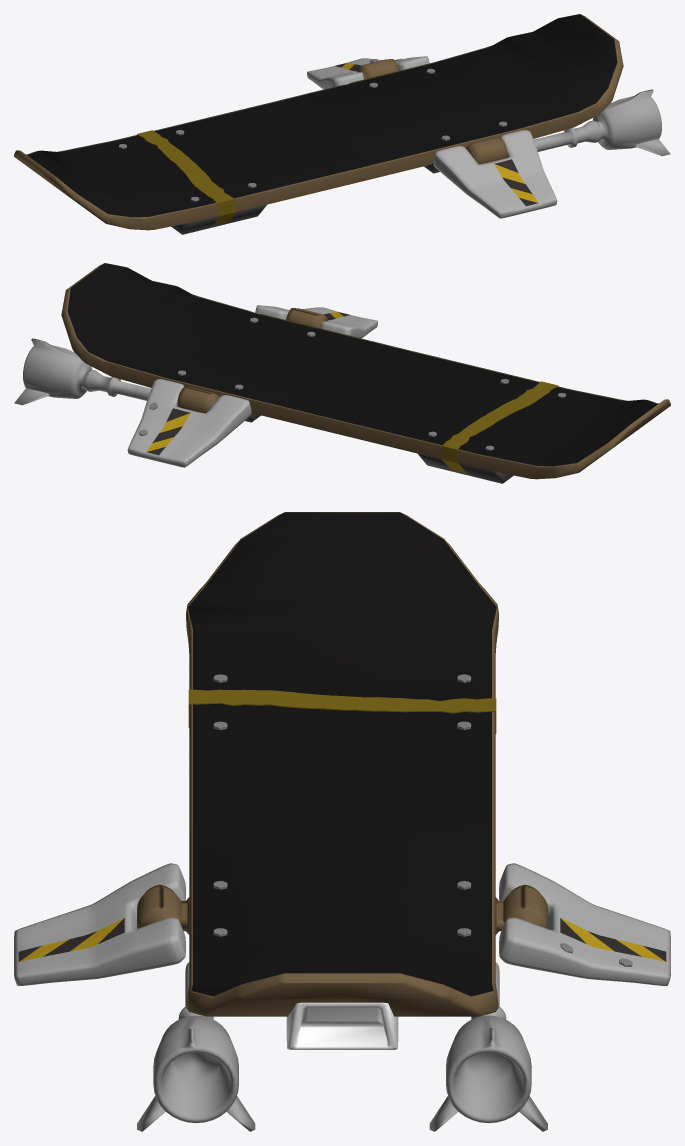
File: hoverboard.glb
The picture shows the model from 3 angles, top to bottom: view 1: azimuth 30°, elevation 25°; view 2: azimuth 150°, elevation 25°; view 3: azimuth 270°, elevation 25°; orthographic projection. The views are drawn at different scales.
Visible parts, largest first — view 1: Cube.013; view 2: Cube.013; view 3: Cube.013.
Boxes of the visible parts, box(x1,y1,x2,y2) form: Cube.013: box(14, 14, 670, 234); Cube.013: box(14, 263, 670, 483); Cube.013: box(14, 512, 670, 1131).
Size of what is drawn, in the model's own units: 1.07 by 0.1563 by 0.6289.
